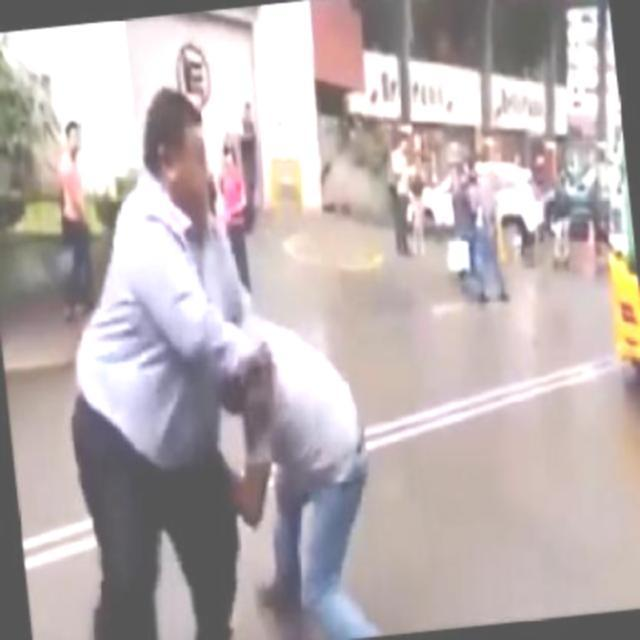fight: (28, 67, 388, 638)
